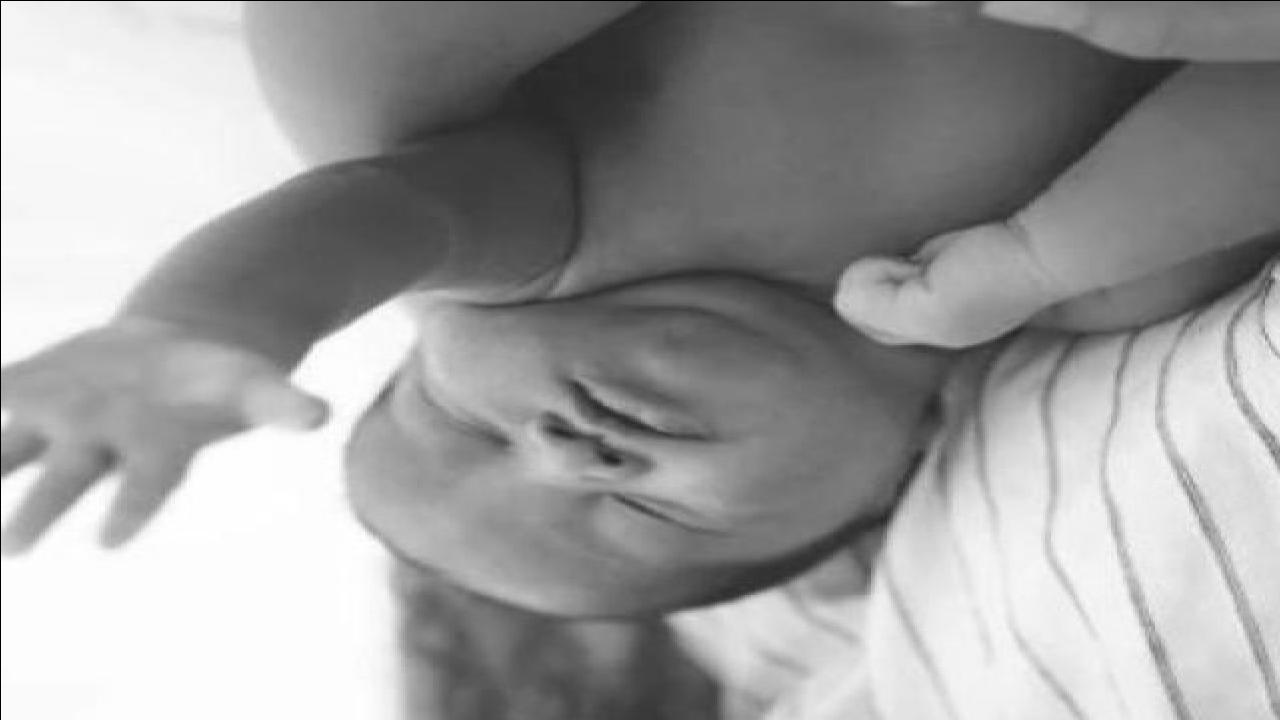hand: (0, 323, 334, 556), (832, 218, 1062, 354)
